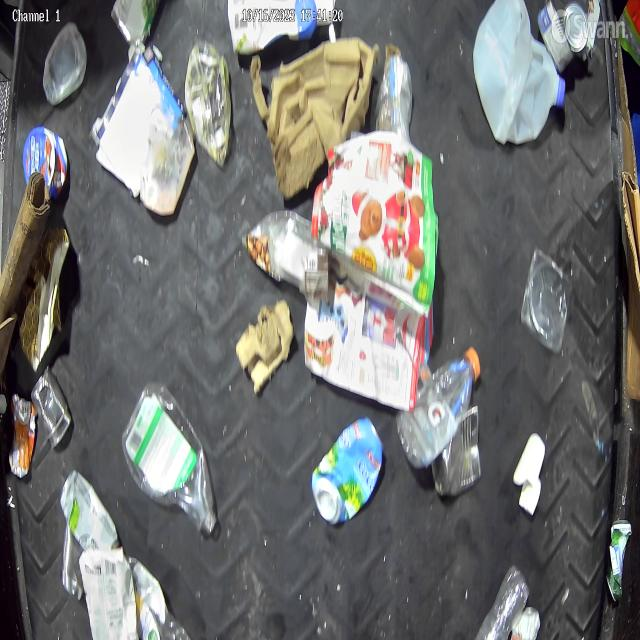can: (312, 418, 388, 528), (535, 0, 597, 81), (434, 406, 484, 504), (31, 364, 74, 452), (8, 393, 36, 489)
milk_jug: (468, 0, 566, 157)
plastic_bottle: (401, 348, 482, 472), (475, 564, 531, 640)
